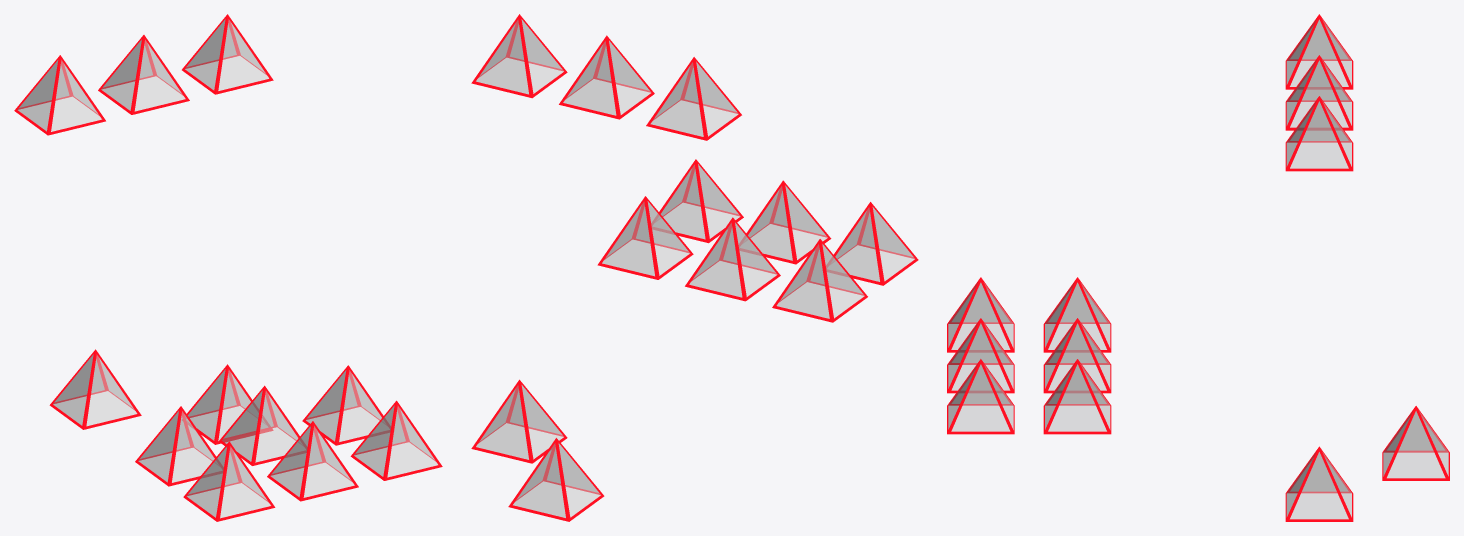
File: (4)M XSpike.fbx
The picture shows the model from 3 angles, left to right: view 1: azimuth 30°, elevation 25°; view 2: azimuth 150°, elevation 25°; view 3: azimuth 270°, elevation 25°; orthographic projection. The views are drawn at different scales.
Parts seen in each view (by area): view 1: Spike..004, Spike..007, Spike..005, Spike..006, Spike..009, Spike..011, Spike..008, Spike..001, Spike..002, Spike..003, Spike..010; view 2: Spike..009, Spike..001, Spike..002, Spike..007, Spike..011, Spike..003, Spike..008, Spike..010, Spike..004, Spike..005, Spike..006; view 3: Spike..003, Spike..009, Spike..006, Spike..010, Spike..011, Spike..008, Spike..002, Spike..005, Spike..001, Spike..007, Spike..004.
Boxes of the visible parts, <box> form: Spike..004: <box>183,441,275,521</box>; Spike..007: <box>14,55,105,135</box>; Spike..005: <box>267,421,358,501</box>; Spike..006: <box>350,400,442,480</box>; Spike..009: <box>182,14,273,94</box>; Spike..011: <box>49,349,141,429</box>; Spike..008: <box>98,35,189,114</box>; Spike..001: <box>135,406,223,486</box>; Spike..002: <box>218,385,306,465</box>; Spike..003: <box>302,365,390,445</box>; Spike..010: <box>182,364,273,444</box>; Spike..009: <box>471,14,567,98</box>; Spike..001: <box>772,239,867,322</box>; Spike..002: <box>685,217,780,301</box>; Spike..007: <box>646,57,741,140</box>; Spike..011: <box>508,438,604,521</box>; Spike..003: <box>597,196,693,279</box>; Spike..008: <box>559,35,654,119</box>; Spike..010: <box>471,379,567,463</box>; Spike..004: <box>826,202,918,285</box>; Spike..005: <box>739,180,831,264</box>; Spike..006: <box>652,159,743,243</box>; Spike..003: <box>1043,359,1111,434</box>; Spike..009: <box>1285,96,1353,171</box>; Spike..006: <box>947,359,1014,434</box>; Spike..010: <box>1285,446,1353,521</box>; Spike..011: <box>1382,406,1449,480</box>; Spike..008: <box>1285,55,1353,130</box>; Spike..002: <box>1043,318,1111,393</box>; Spike..005: <box>947,318,1014,393</box>; Spike..001: <box>1043,277,1111,352</box>; Spike..007: <box>1285,14,1353,89</box>; Spike..004: <box>947,277,1014,352</box>.
Size of the model in its own units: 540 by 940 by 1040.
